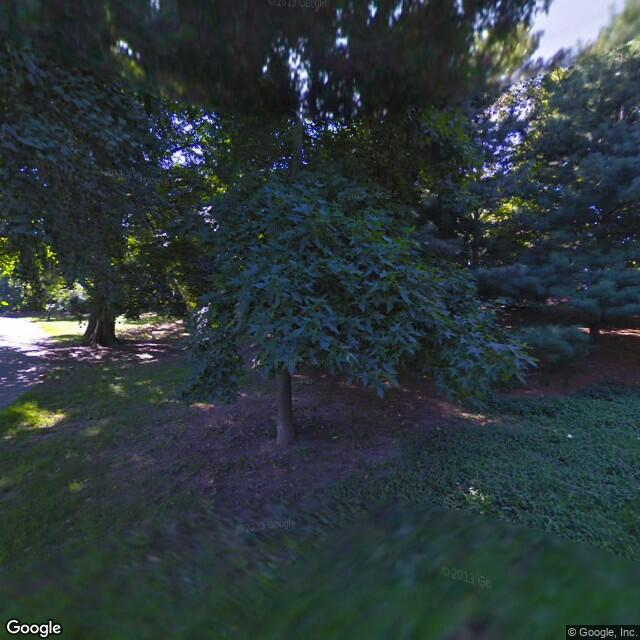litter: (563, 421, 577, 442)
